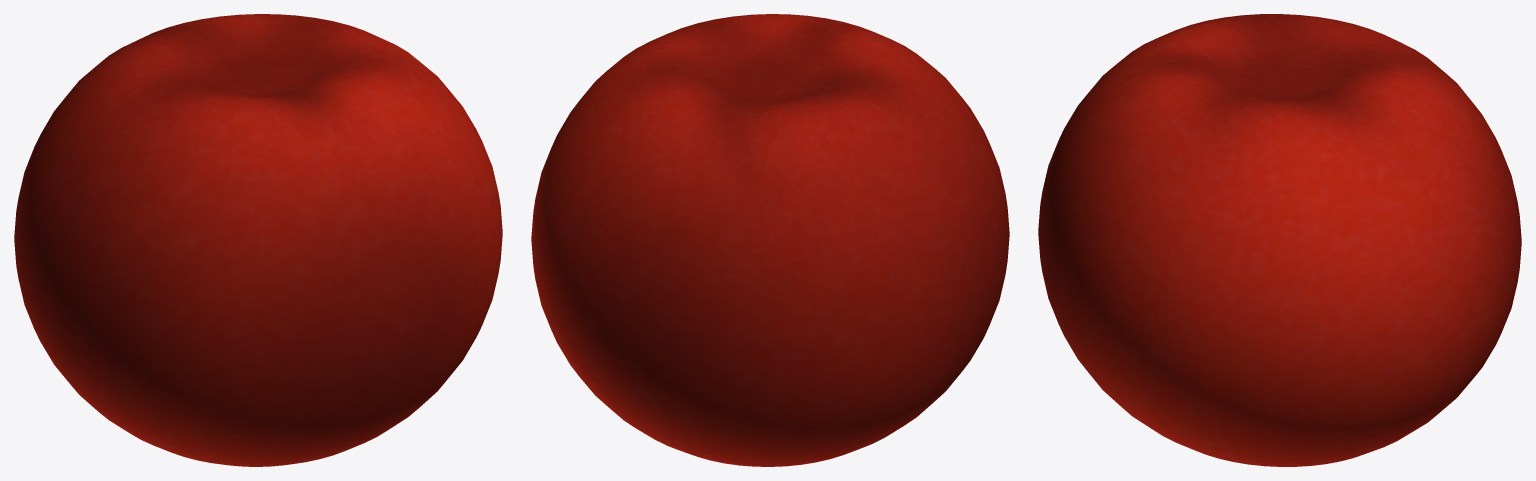
Rendered from tomato_11.obj.
3 renders of one model, left to right at view 1: azimuth 30°, elevation 25°; view 2: azimuth 150°, elevation 25°; view 3: azimuth 270°, elevation 25°, orthographic. The views are drawn at different scales.
Visible parts, largest first — view 1: tomato_11; view 2: tomato_11; view 3: tomato_11.
Part boxes in pixels (left/top/right/bottom): tomato_11: left=14, top=14, right=502, bottom=466; tomato_11: left=531, top=14, right=1009, bottom=466; tomato_11: left=1038, top=14, right=1521, bottom=466.
Size of the model in its own units: 3.94 by 3.46 by 3.94.
Materials: 1 (1 with a texture image).
